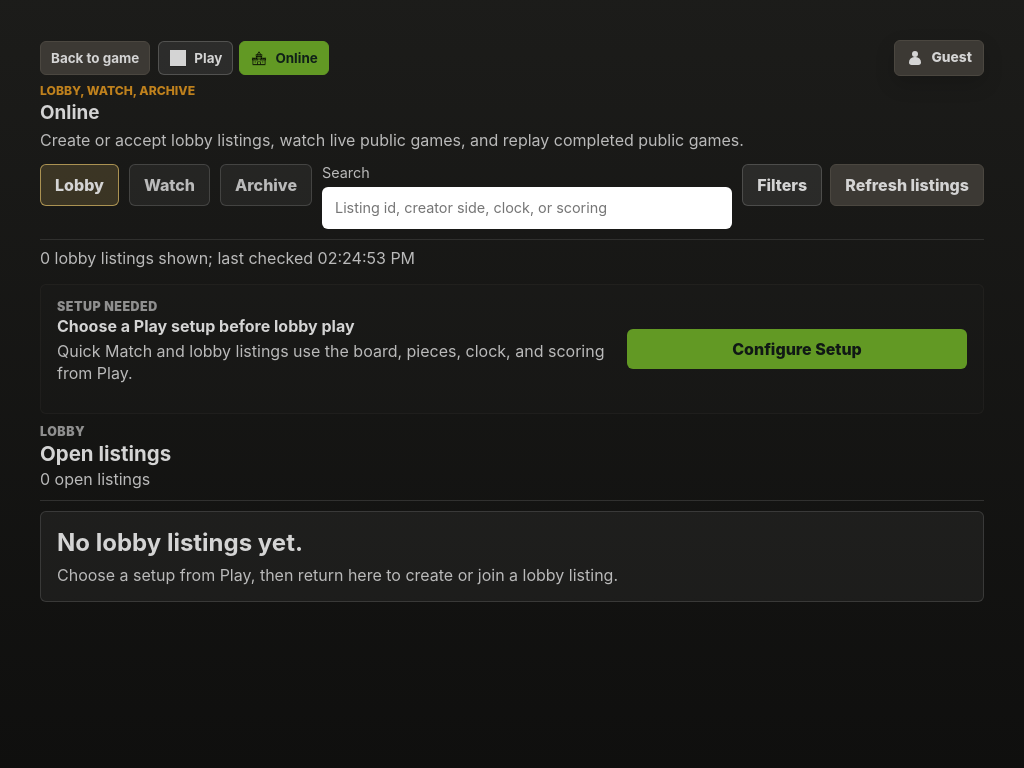
OnlineGameBrowser › hides the default account form and shows disabled Google sign-in only in the account dialog
The image size is (1024, 768).
Expected: the heading "No lobby listings yet." is shown, [57, 528, 303, 557]
Expected: the field labelled "Display name" is not shown
Click the button named "Guest account. Open account sign in".
click(939, 58)  # box [894, 40, 984, 76]
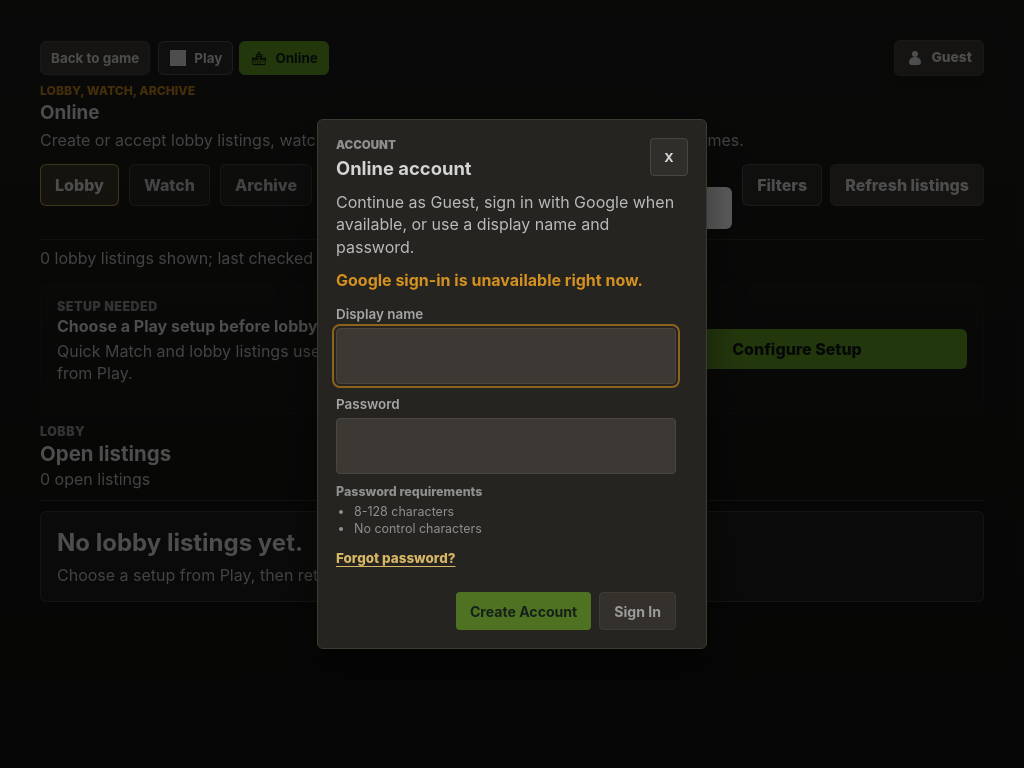
Expected: the text "Google sign-in is unavailable right now." is shown, [336, 270, 688, 292]
